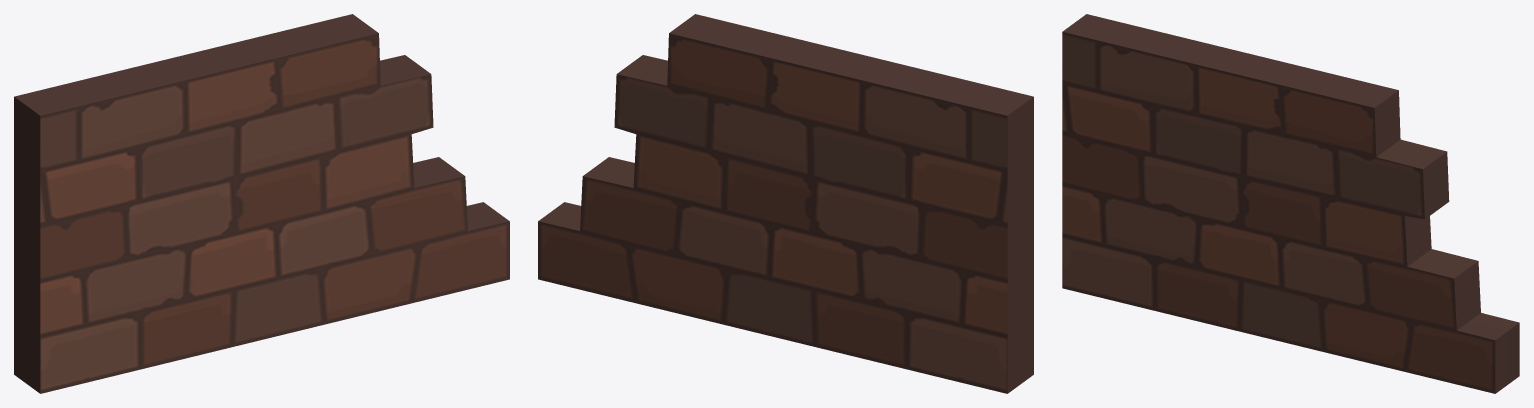
The model's file is Wall_A1.fbx.
3 views of the same model, side by side, from view 1: azimuth 30°, elevation 25°; view 2: azimuth 150°, elevation 25°; view 3: azimuth 330°, elevation 25° (orthographic). The views are drawn at different scales.
Visible parts, largest first — view 1: Wall_A1; view 2: Wall_A1; view 3: Wall_A1.
Boxes of the visible parts, x1=… form: Wall_A1: x1=14, y1=14, x2=509, y2=393; Wall_A1: x1=538, y1=14, x2=1033, y2=393; Wall_A1: x1=1062, y1=14, x2=1519, y2=393.
Size of the model in its own units: 300 by 170 by 29.12.
Materials: 1 (1 with a texture image).
